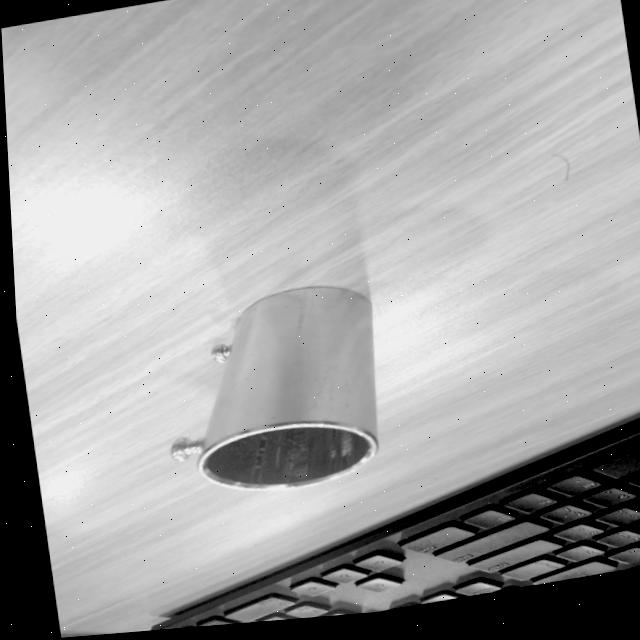Co_Lon: (163, 283, 379, 493)
